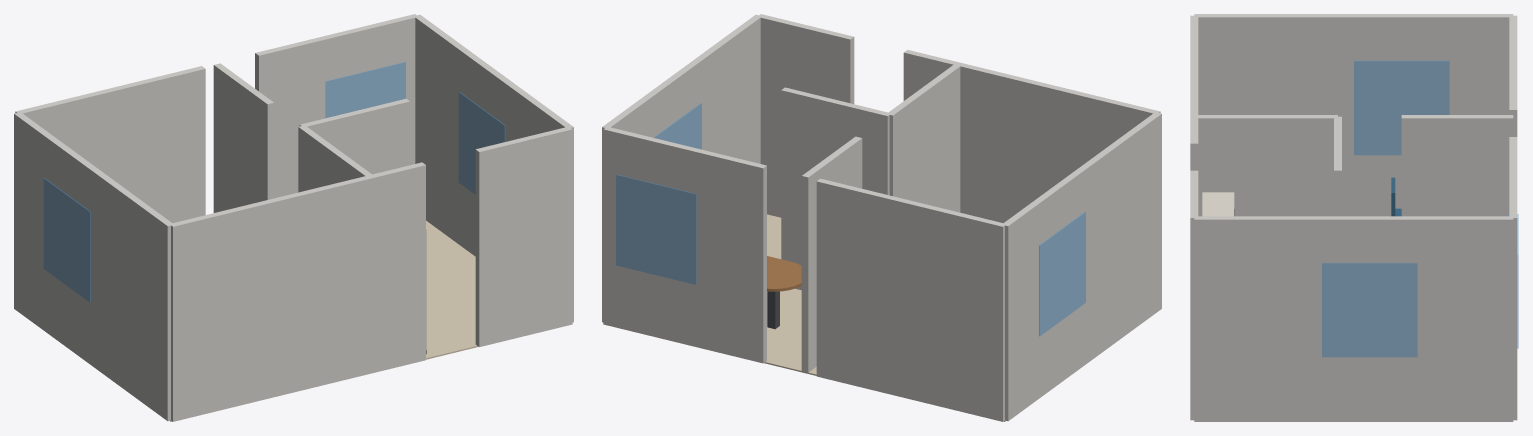
3 renders of one model, left to right at view 1: azimuth 30°, elevation 25°; view 2: azimuth 150°, elevation 25°; view 3: azimuth 270°, elevation 25°, orthographic. The views are drawn at different scales.
Parts seen in each view (by area): view 1: wall_05, wall_06, wall_04, wall_03, wall_01, wall_02, wall_07, floor, wall_09, window_03, window_01, wall_08 (+1 smaller); view 2: wall_01, wall_02, wall_06, wall_05, wall_03, wall_09, wall_04, wall_08, window_01, wall_07, window_03, floor (+2 smaller); view 3: wall_03, wall_06, wall_08, wall_07, window_02, window_03, wall_02, wall_04, wall_05, wall_01, cabinet_01_body, wall_09.
Boxes of the visible parts, x1,y1,x2,y2 form: wall_05: [169, 162, 425, 421]; wall_06: [14, 113, 172, 421]; wall_04: [475, 126, 572, 346]; wall_03: [415, 14, 573, 322]; wall_01: [15, 66, 205, 223]; wall_02: [255, 14, 417, 198]; wall_07: [213, 63, 274, 212]; floor: [170, 220, 478, 421]; wall_09: [299, 98, 409, 174]; window_03: [43, 178, 90, 302]; window_01: [325, 62, 405, 117]; wall_08: [298, 125, 373, 192]; wall_01: [816, 178, 1006, 421]; wall_02: [603, 126, 766, 363]; wall_06: [1003, 113, 1161, 421]; wall_05: [903, 49, 1160, 223]; wall_03: [602, 14, 761, 322]; wall_09: [781, 87, 889, 290]; wall_04: [759, 14, 854, 217]; wall_08: [887, 63, 961, 212]; window_01: [616, 174, 696, 284]; wall_07: [801, 136, 862, 372]; window_03: [1039, 212, 1085, 335]; floor: [764, 214, 1005, 421]; wall_03: [1194, 216, 1513, 421]; wall_06: [1194, 14, 1513, 216]; wall_08: [1194, 115, 1337, 216]; wall_07: [1401, 115, 1513, 216]; window_02: [1322, 263, 1417, 357]; window_03: [1354, 60, 1449, 155]; wall_02: [1509, 137, 1517, 420]; wall_04: [1190, 170, 1198, 420]; wall_05: [1190, 15, 1198, 170]; wall_01: [1509, 15, 1517, 136]; cabinet_01_body: [1202, 192, 1234, 216]; wall_09: [1334, 116, 1341, 216].
Size of the model in its own units: 6.13 by 2.82 by 4.11.
